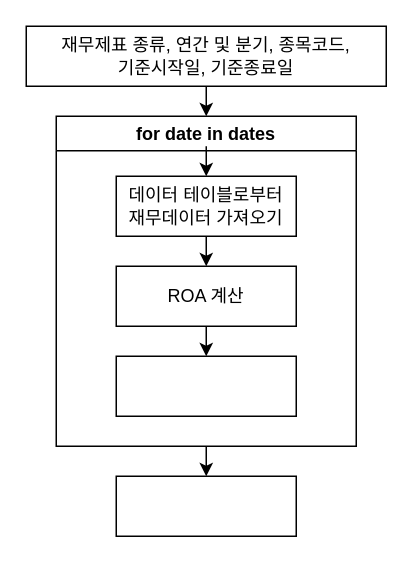
Some shapes in this 413 by 563 pixel diagram are drawn without their labels. Here are the shapes that lost their labels. From the top down, the centre of each, then its label:
At point 205,385: "ROA 데이터프레임 형태로 저장".
At point 205,505: "ROA 데이터프레임 return".
